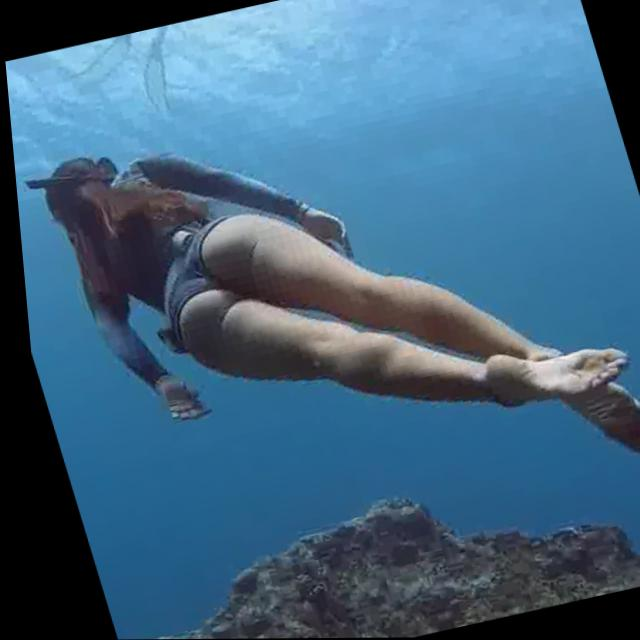human: (2, 25, 640, 589)
